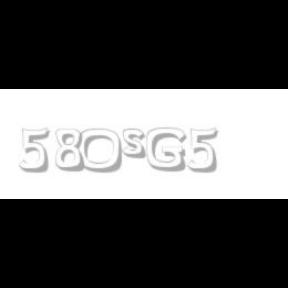5: (18, 128, 50, 174), (188, 128, 218, 174)
8: (55, 128, 84, 172)
G: (146, 128, 186, 172)
O: (78, 128, 124, 174)
s: (122, 128, 150, 160)
